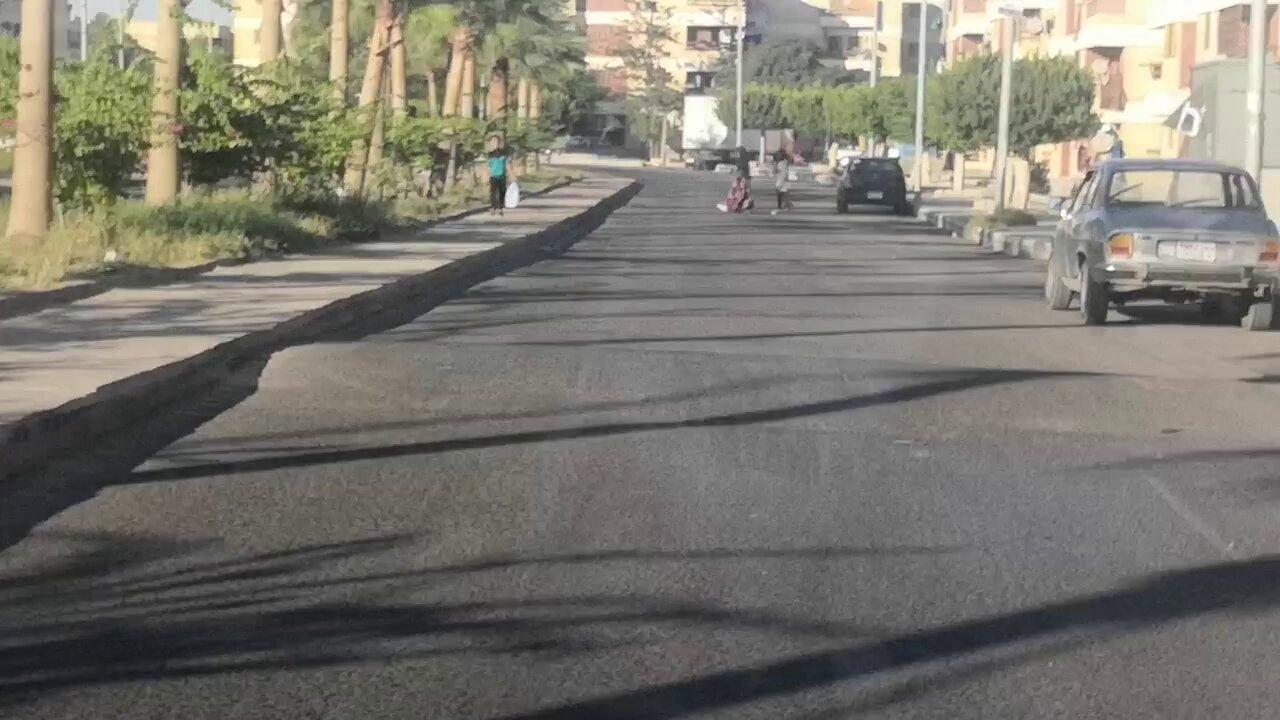Bump: (278, 340, 1280, 443)
